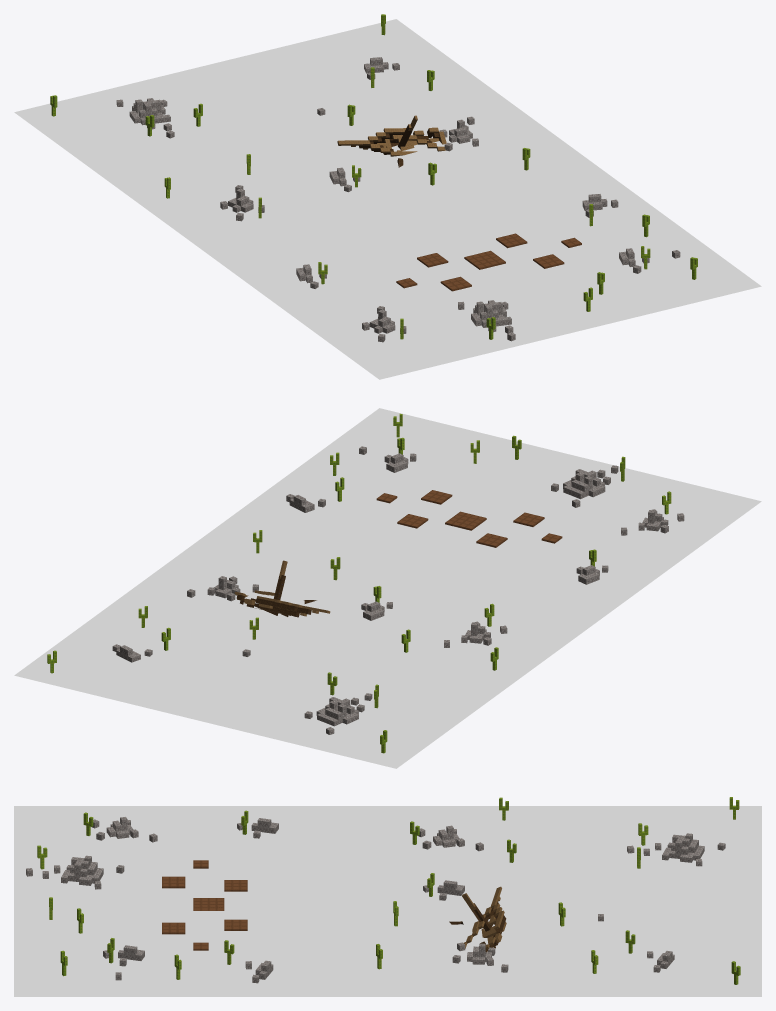
Rendered from Map_Chap2.fbx.
3 views of the same model, one above another, from view 1: azimuth 30°, elevation 25°; view 2: azimuth 150°, elevation 25°; view 3: azimuth 270°, elevation 25° (orthographic). The views are drawn at different scales.
Visible parts, largest first — view 1: map.tren2_g, map.duoi2_g, Object_77.001; view 2: map.tren2_g, map.duoi2_g, Object_77.001; view 3: map.tren2_g, map.duoi2_g, Object_77.001, golem.002.
Boxes of the visible parts, bbox=[...] form: map.tren2_g: bbox=[14, 19, 616, 273]; map.duoi2_g: bbox=[235, 180, 761, 379]; Object_77.001: bbox=[337, 115, 446, 167]; map.tren2_g: bbox=[14, 514, 616, 768]; map.duoi2_g: bbox=[235, 408, 761, 606]; Object_77.001: bbox=[234, 560, 330, 617]; map.tren2_g: bbox=[310, 806, 761, 996]; map.duoi2_g: bbox=[14, 806, 309, 996]; Object_77.001: bbox=[449, 886, 506, 952]; golem.002: bbox=[193, 898, 224, 910].
Bounding box in the file's own units: 696 × 93.26 × 1152.
4 materials, 2 textured.
